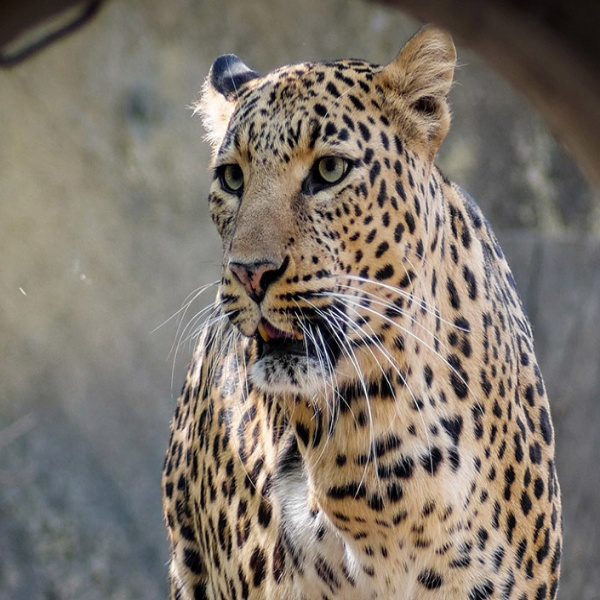Leopard: (157, 21, 568, 600)
